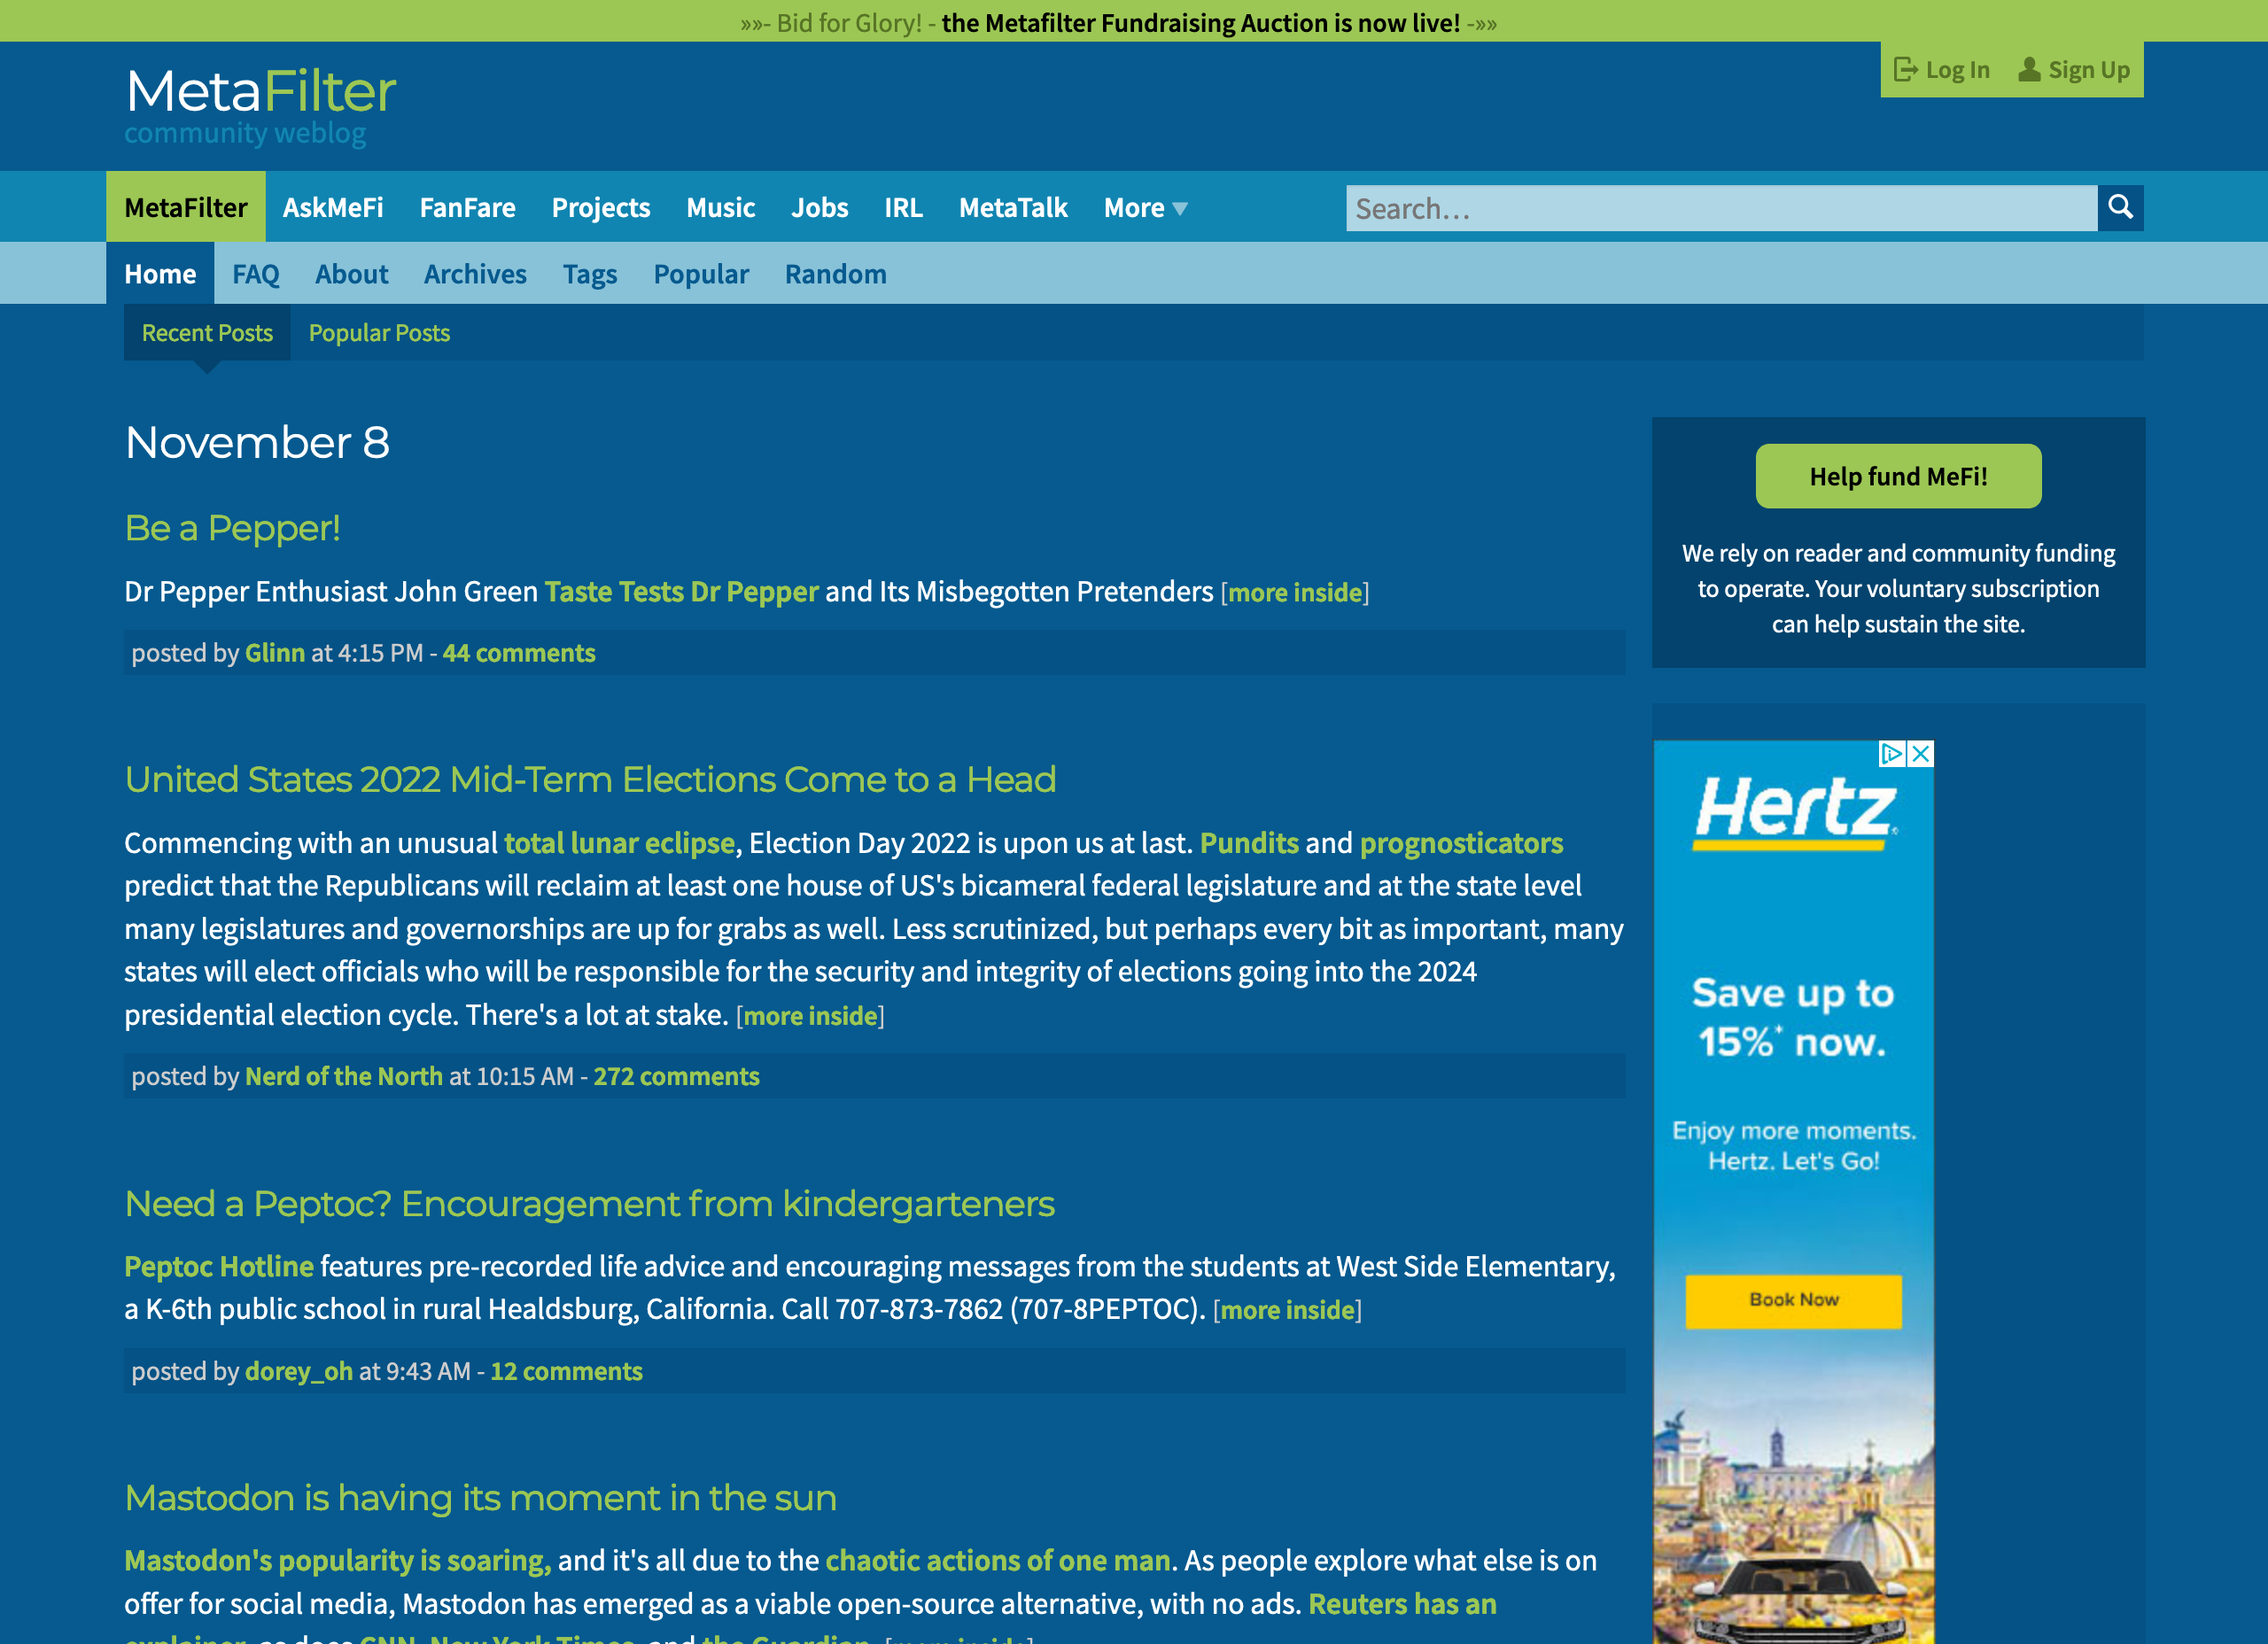Login: (1918, 48, 1997, 88)
